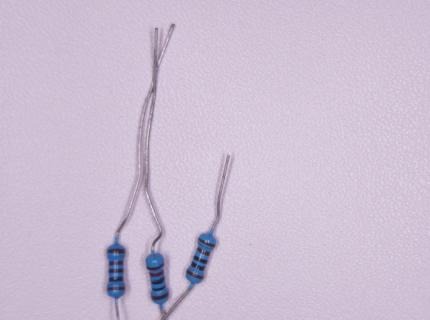Brown band: (196, 247, 211, 256), (109, 261, 124, 266)
